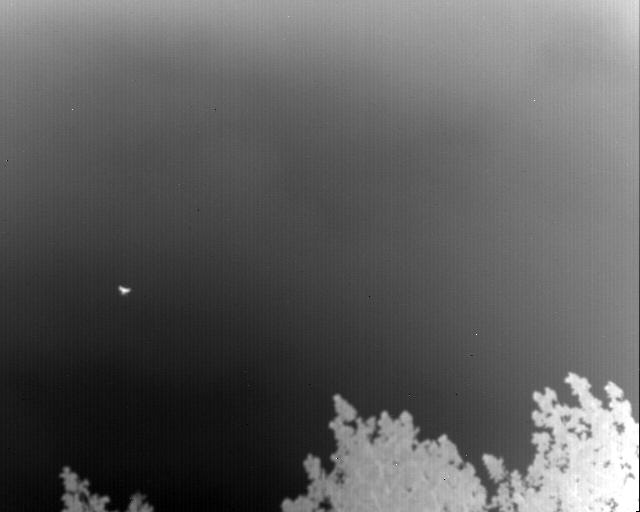plane: (118, 284, 130, 294)
